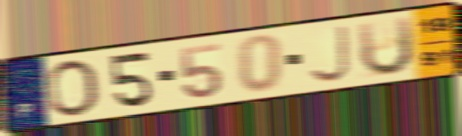0: (234, 32, 287, 96)
5: (177, 41, 224, 100), (108, 51, 155, 109)
J: (305, 24, 352, 85)
O: (45, 57, 102, 120)
U: (355, 14, 416, 79)
